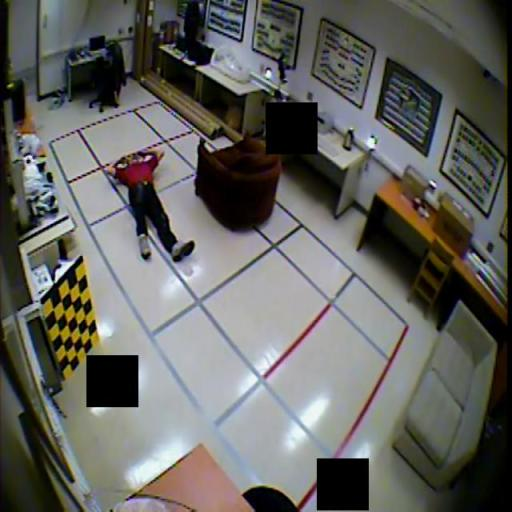Fall: (106, 148, 195, 263)
